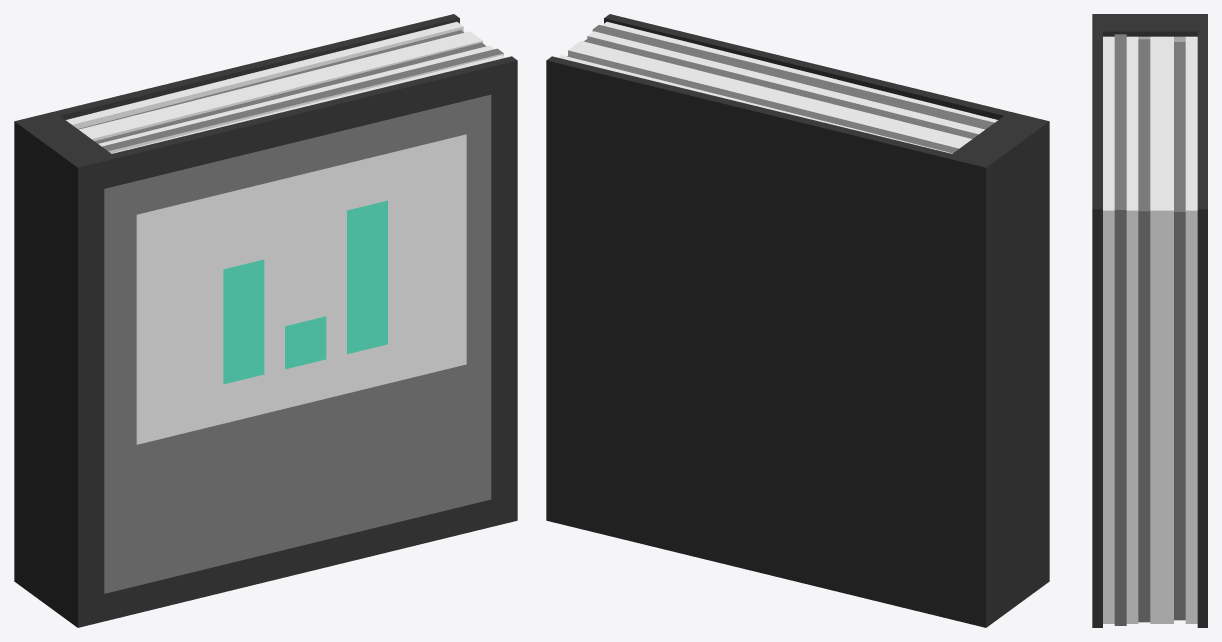
File: MACThand.obj
The picture shows the model from 3 angles, left to right: view 1: azimuth 30°, elevation 25°; view 2: azimuth 150°, elevation 25°; view 3: azimuth 270°, elevation 25°; orthographic projection. The views are drawn at different scales.
Visible parts, largest first — view 1: cuboid_selection, cuboid, plane; view 2: cuboid, cuboid_selection; view 3: cuboid_selection, cuboid.
Part boxes in pixels (x1,y1,x2,y2): cuboid_selection: [66, 22, 505, 593]; cuboid: [14, 14, 517, 627]; plane: [223, 200, 387, 384]; cuboid: [546, 14, 1049, 627]; cuboid_selection: [558, 22, 997, 153]; cuboid_selection: [1103, 34, 1197, 625]; cuboid: [1092, 14, 1207, 627].
Size of the model in its own units: 1 by 1 by 0.2812.
